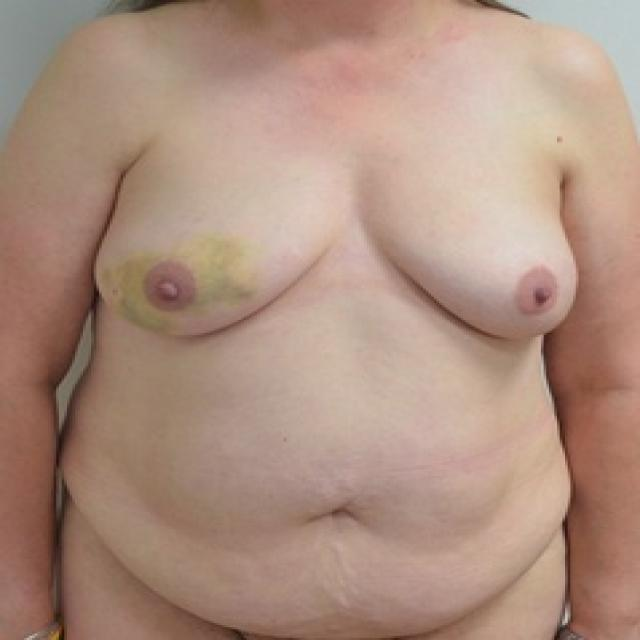Seno herido: (84, 134, 344, 356)
Seno ileso: (352, 133, 588, 356)
